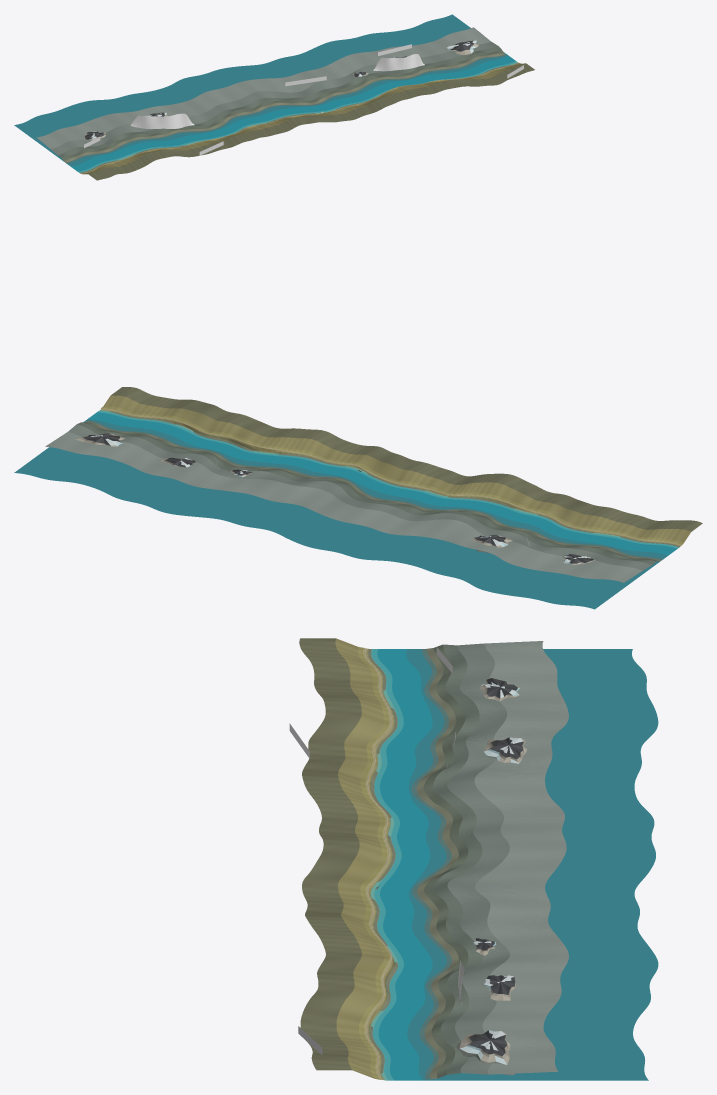
File: paine.glb
3 views of the same model, one above another, from view 1: azimuth 30°, elevation 25°; view 2: azimuth 150°, elevation 25°; view 3: azimuth 270°, elevation 25° (orthographic). The views are drawn at different scales.
Parts seen in each view (by area): view 1: PaineFarShore, CuernosRelief, Land_001, PehoeWater_022, PehoeWater_003, PehoeWater_040, PehoeWater_052, PehoeWater_010, PehoeWater_021, PehoeWater_045, PehoeWater_026, Land_013 (+28 smaller); view 2: PaineFarShore, Land_004, Land_001, PehoeWater_040, PehoeWater_003, Land_009, Land_013, PehoeWater_022, Land_010, Land_012, PehoeWater_052, PehoeWater_010 (+25 smaller); view 3: PaineFarShore, PehoeWater_040, Land_003, Land_013, PehoeWater_022, PehoeWater_010, Land_007, Land_012, PehoeWater_045, Land_011, PehoeWater_052, PehoeWater_003 (+32 smaller).
Boxes of the visible parts, left/top/right/bottom form: PaineFarShore: left=36, top=27, right=506, bottom=163; CuernosRelief: left=130, top=113, right=194, bottom=129; Land_001: left=84, top=131, right=157, bottom=173; PehoeWater_022: left=177, top=75, right=257, bottom=126; PehoeWater_003: left=20, top=115, right=106, bottom=165; PehoeWater_040: left=318, top=39, right=399, bottom=89; PehoeWater_052: left=414, top=19, right=498, bottom=69; PehoeWater_010: left=98, top=96, right=179, bottom=148; PehoeWater_021: left=156, top=82, right=248, bottom=131; PehoeWater_045: left=373, top=30, right=455, bottom=80; PehoeWater_026: left=210, top=67, right=288, bottom=117; Land_013: left=447, top=40, right=534, bottom=77; PaineFarShore: left=45, top=420, right=662, bottom=582; Land_004: left=469, top=473, right=539, bottom=507; Land_001: left=563, top=507, right=656, bottom=564; PehoeWater_040: left=152, top=449, right=259, bottom=515; PehoeWater_003: left=551, top=541, right=659, bottom=607; Land_009: left=234, top=428, right=323, bottom=477; Land_013: left=75, top=387, right=153, bottom=446; PehoeWater_022: left=340, top=493, right=446, bottom=560; Land_010: left=181, top=413, right=275, bottom=473; Land_012: left=113, top=395, right=208, bottom=446; PehoeWater_052: left=39, top=416, right=146, bottom=482; PehoeWater_010: left=446, top=522, right=566, bottom=585; PaineFarShore: left=411, top=641, right=568, bottom=1079; PehoeWater_040: left=394, top=950, right=658, bottom=975; Land_003: left=308, top=726, right=525, bottom=773; Land_013: left=311, top=1031, right=515, bottom=1080; PehoeWater_022: left=390, top=811, right=654, bottom=835; PehoeWater_010: left=391, top=727, right=651, bottom=758; Land_007: left=302, top=852, right=390, bottom=896; Land_012: left=300, top=1006, right=500, bottom=1052; PehoeWater_045: left=386, top=999, right=649, bottom=1025; Land_011: left=306, top=978, right=515, bottom=1022; PehoeWater_052: left=383, top=1039, right=645, bottom=1062; PehoeWater_003: left=383, top=655, right=646, bottom=679.
Bounding box in the file's own units: 16069 × 1965 × 7648.
